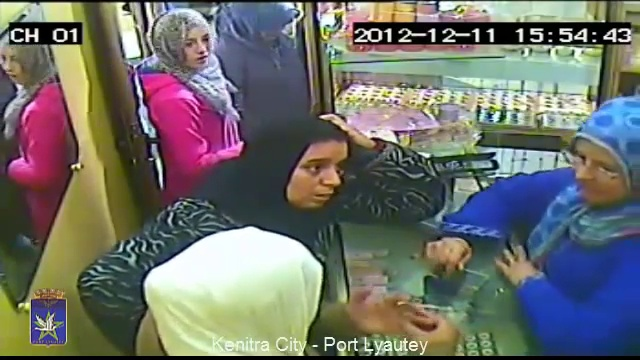face: (573, 142, 627, 202), (289, 155, 343, 204), (165, 26, 211, 72), (0, 50, 23, 85)
